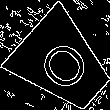O_SE: (31, 31, 96, 97)
